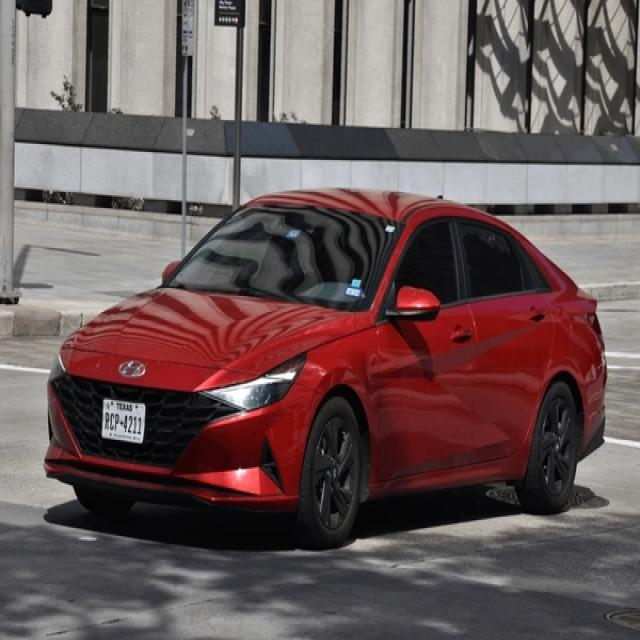hyundai: (116, 356, 148, 381)
